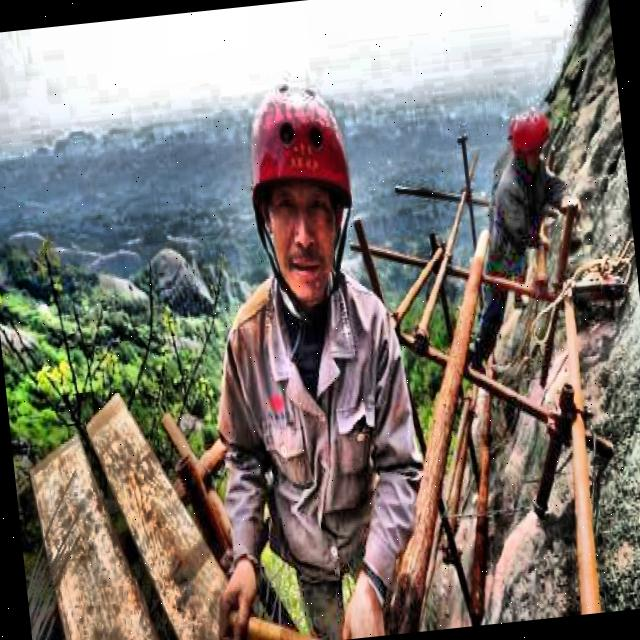helmet: (225, 76, 374, 314), (498, 97, 554, 172)
